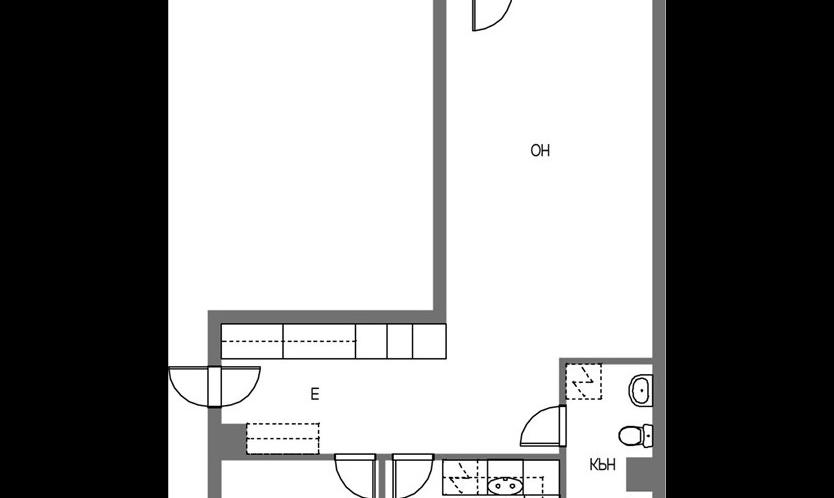door: (206, 361, 266, 411), (514, 404, 569, 450), (170, 360, 220, 410), (388, 448, 436, 498), (330, 451, 379, 498), (471, 0, 515, 35)
